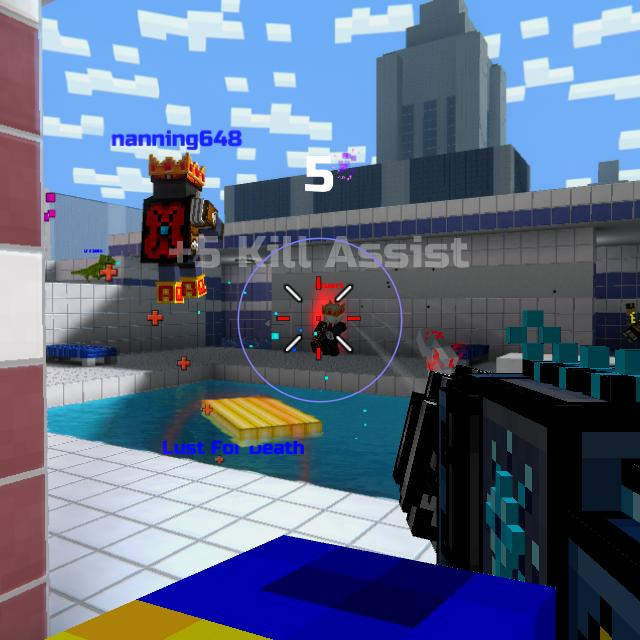Enemy: (312, 300, 347, 356)
